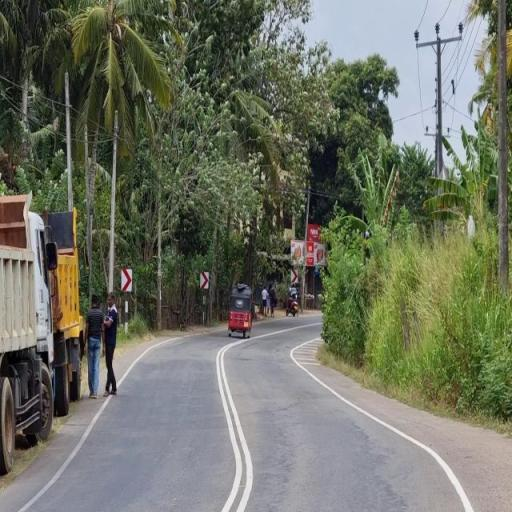double_white_line: (214, 341, 258, 511)
